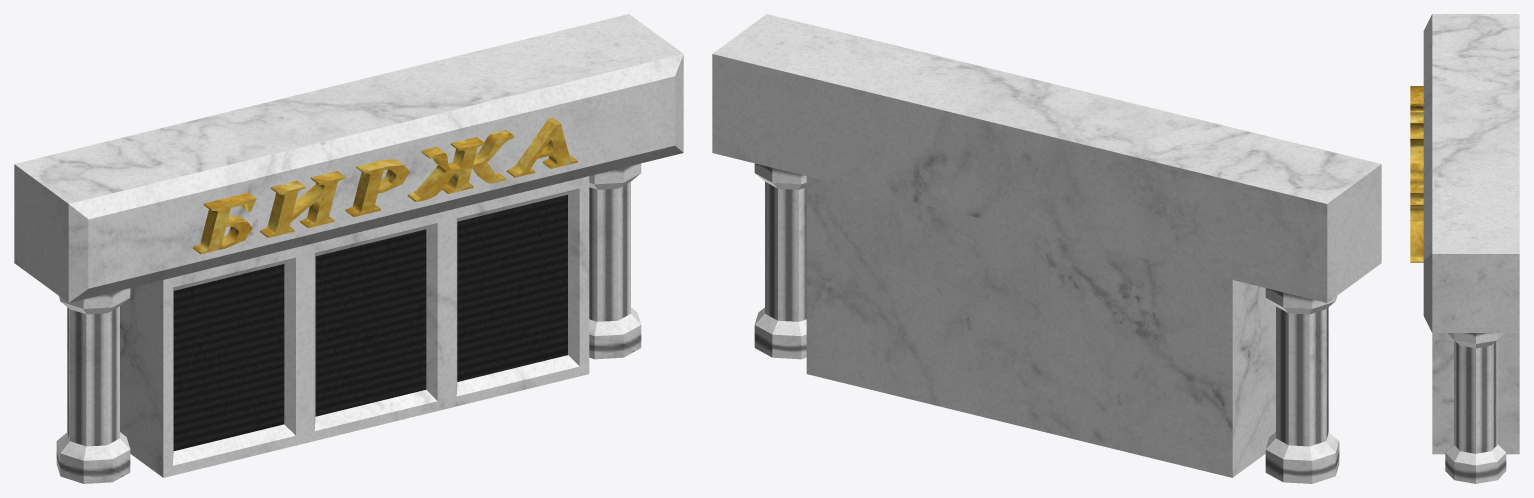
File: exchange.fbx
3 views of the same model, side by side, from view 1: azimuth 30°, elevation 25°; view 2: azimuth 150°, elevation 25°; view 3: azimuth 270°, elevation 25° (orthographic). The views are drawn at different scales.
Parts seen in each view (by area): view 1: доска, Текст.001, колонна 1, колонна 2; view 2: доска, колонна 1, колонна 2; view 3: доска, колонна 2, Текст.001.
Part boxes in pixels (x1,y1,x2,y2): доска: (14, 14, 683, 477); Текст.001: (192, 117, 577, 254); колонна 1: (56, 288, 130, 483); колонна 2: (589, 163, 641, 359); доска: (712, 14, 1381, 477); колонна 1: (1265, 288, 1339, 483); колонна 2: (754, 163, 806, 359); доска: (1423, 14, 1519, 454); колонна 2: (1445, 333, 1506, 483); Текст.001: (1410, 86, 1423, 262).
Bounding box in the file's own units: 130 × 60 × 25.
